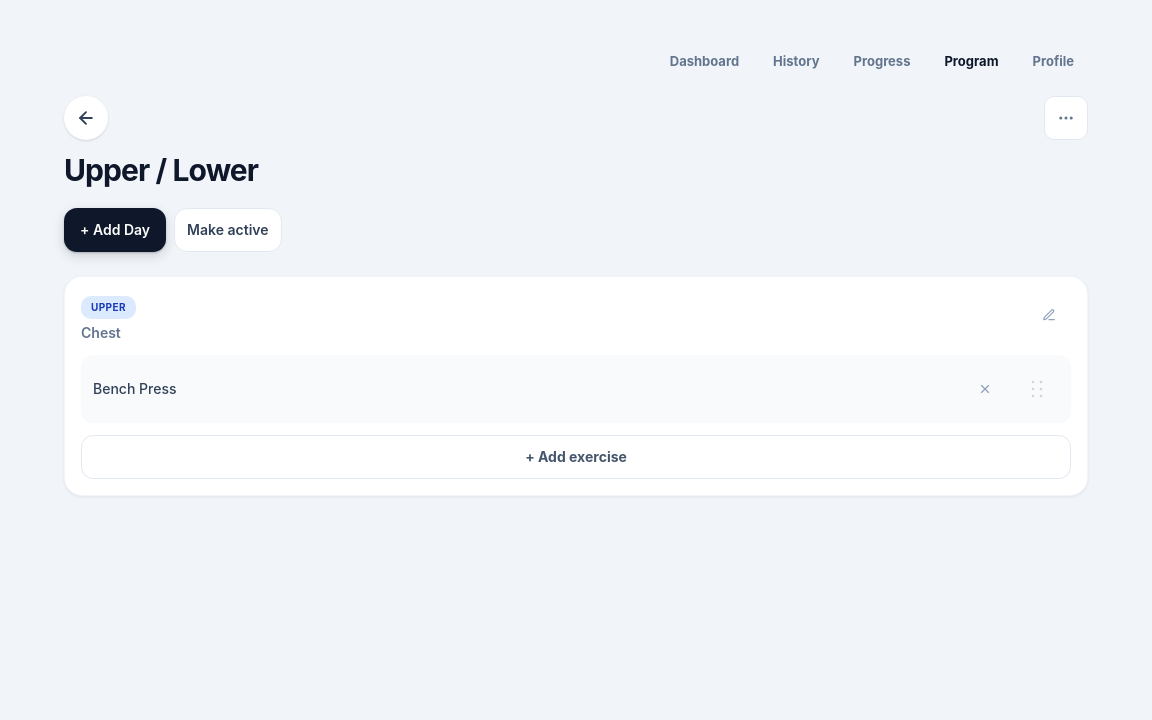
Test: program editor page actions › renames the program in place through the options menu
Step 1. Click the button named "More actions for Upper / Lower" → (1066, 118), box [1044, 96, 1088, 140]
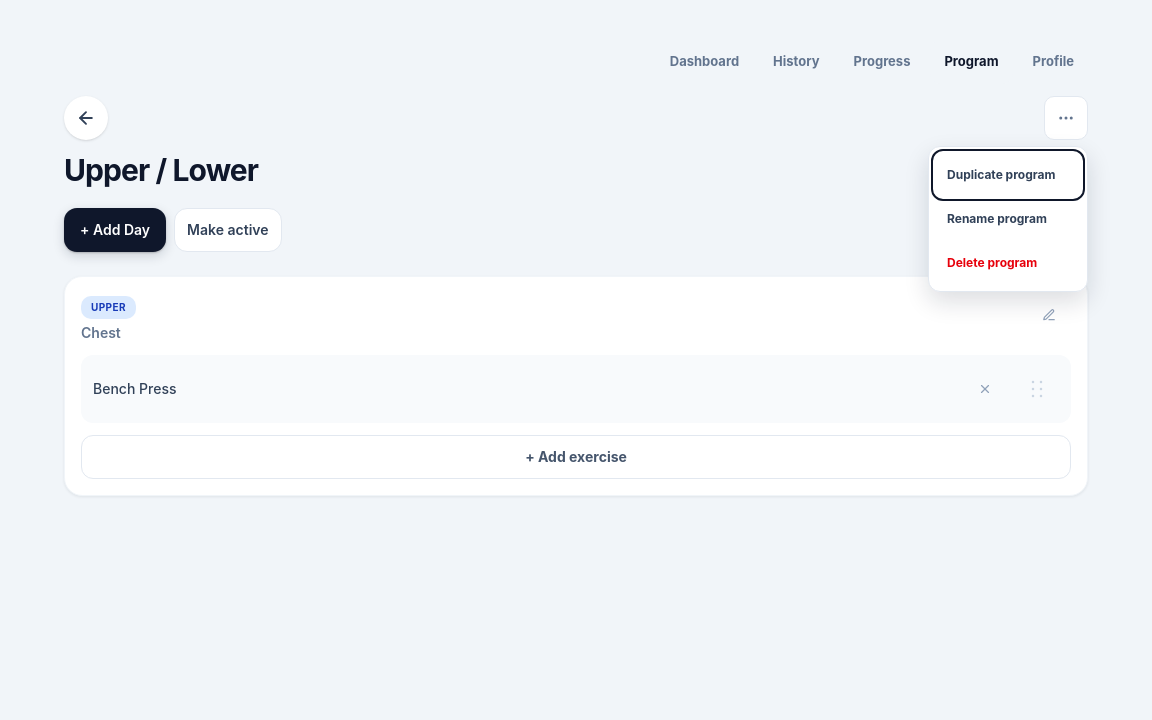
Step 2. Click the menu item "Rename program" → (1008, 219), box [935, 197, 1081, 241]
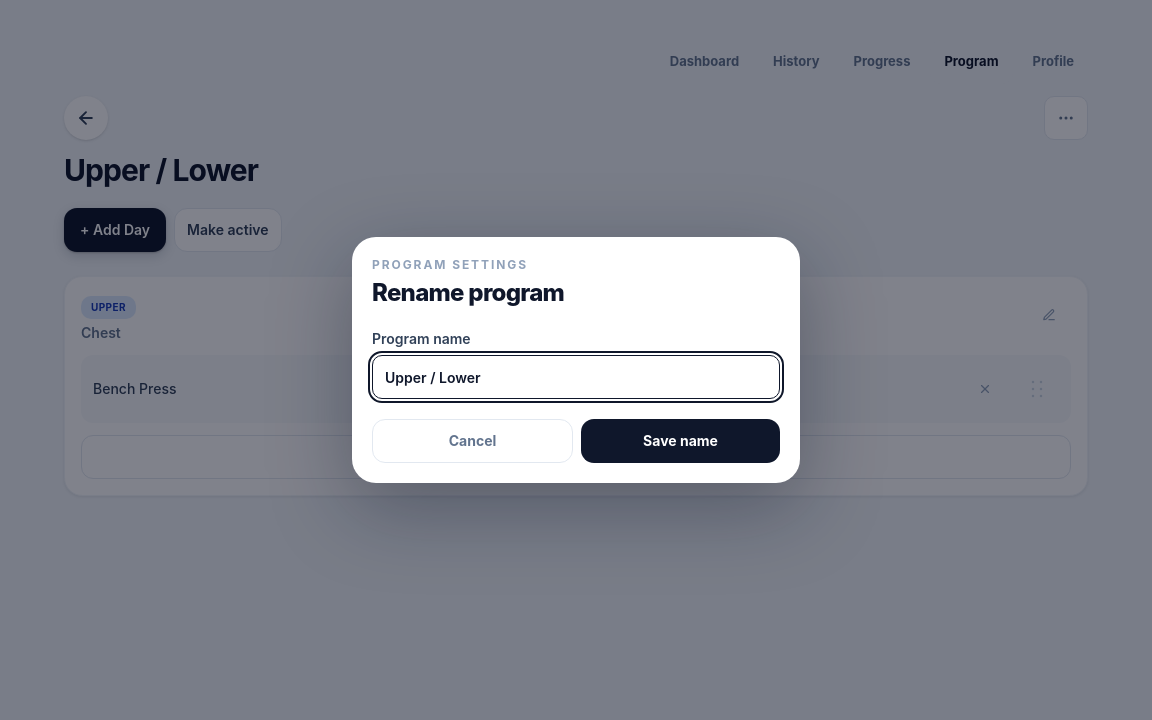
Step 3. Replace the text in the field labelled "Program name" with "New routine" → (576, 377), box [372, 355, 780, 399]
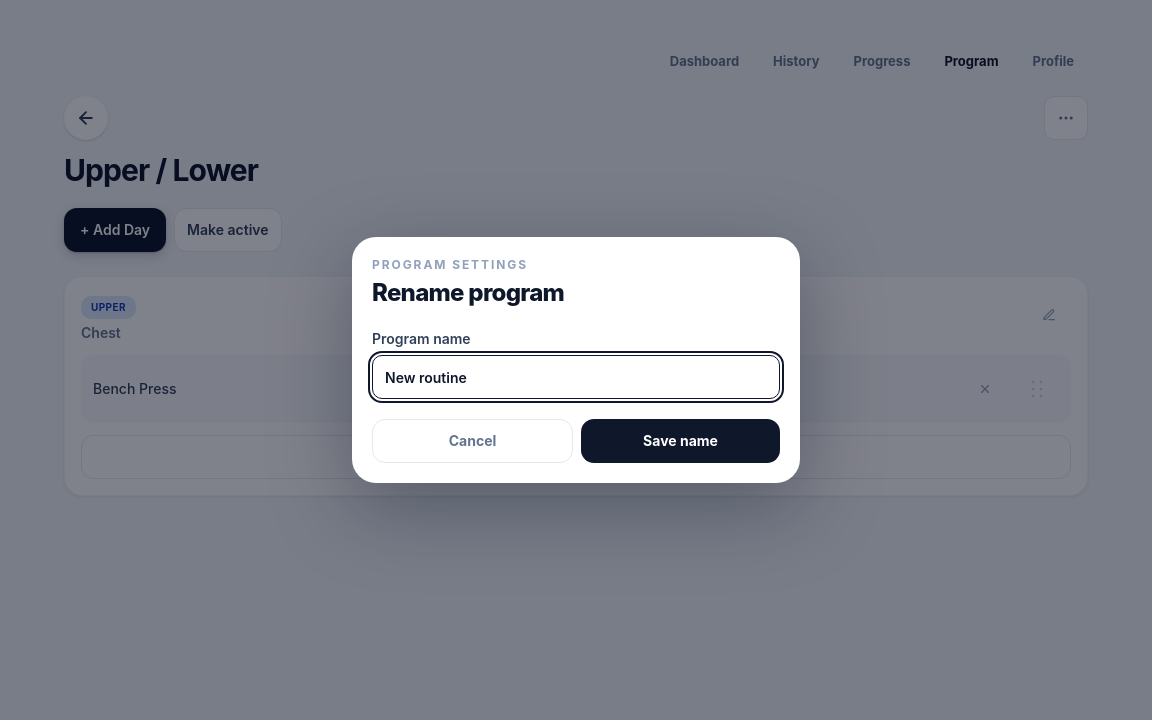
Step 4. Click the button "Save name" → (680, 441), box [581, 419, 780, 463]
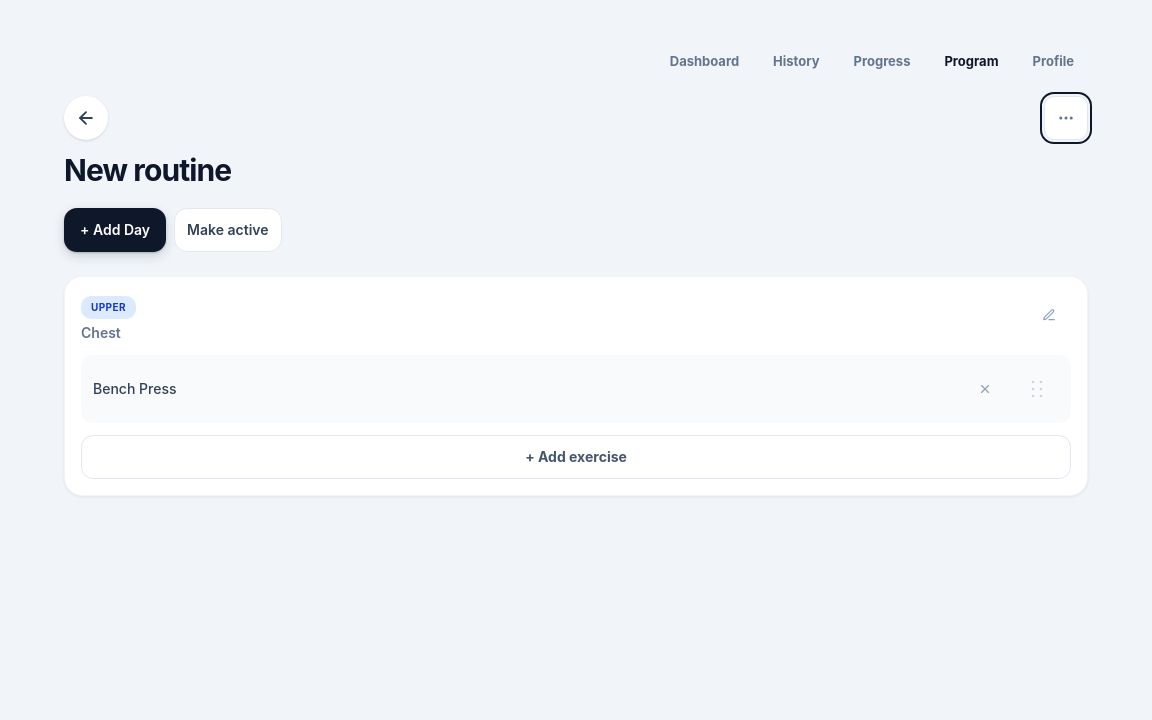
Expected: the heading "New routine" is shown, [64, 152, 231, 188]
